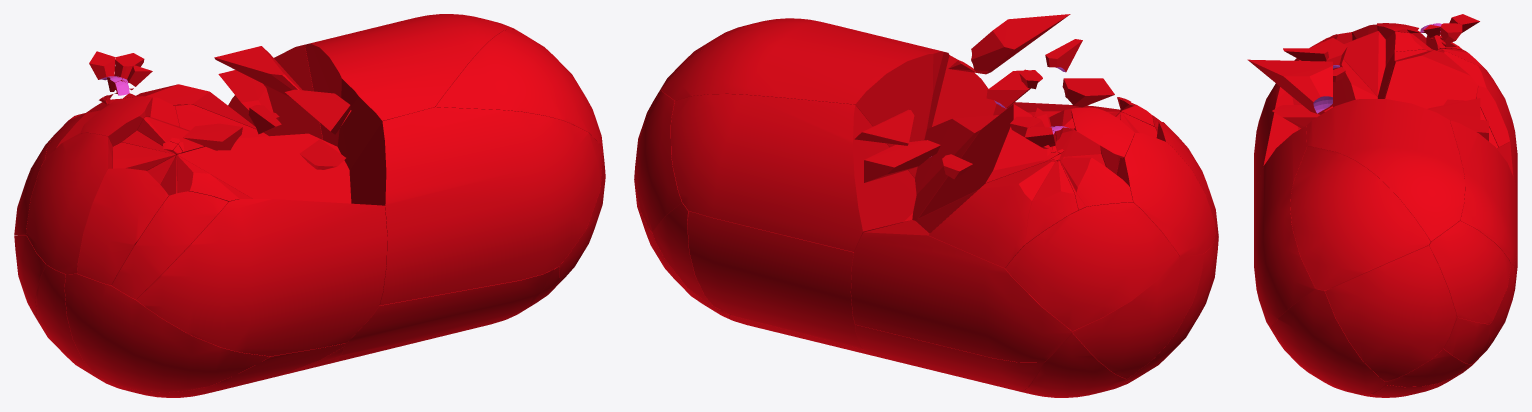
File: boom.fbx
3 views of the same model, side by side, from view 1: azimuth 30°, elevation 25°; view 2: azimuth 150°, elevation 25°; view 3: azimuth 270°, elevation 25° (orthographic). The views are drawn at different scales.
Visible parts, largest first — view 1: Sphere.001_cell.046, Sphere.001_cell.028, Sphere.001_cell.061, Sphere.001_cell.022, Sphere.001_cell.071, Sphere.001_cell.050, Sphere.001_cell.063, Sphere.001_cell.005, Sphere.001_cell.098, Sphere.001_cell.029, Sphere.001_cell.056, Sphere.001_cell.031 (+20 smaller); view 2: Sphere.001_cell.056, Sphere.001_cell.019, Sphere.001_cell.061, Sphere.001_cell.048, Sphere.001_cell.024, Sphere.001_cell.017, Sphere.001_cell.050, Sphere.001_cell.091, Sphere.001_cell.085, Sphere.001_cell.042, Sphere.001_cell.011, Sphere.001_cell.009 (+21 smaller); view 3: Sphere.001_cell.071, Sphere.001_cell.061, Sphere.001_cell.073, Sphere.001_cell.046, Sphere.001_cell.012, Sphere.001_cell.011, Sphere.001_cell.056, Sphere.001_cell.042, Sphere.001_cell.062, Sphere.001_cell.028, Sphere.001_cell.091, Sphere.001_cell.016 (+18 smaller).
Part boxes in pixels (box(x1,y1,x2,y2)): Sphere.001_cell.046: box(349, 107, 602, 305); Sphere.001_cell.028: box(136, 199, 387, 356); Sphere.001_cell.061: box(305, 14, 514, 169); Sphere.001_cell.022: box(64, 273, 269, 392); Sphere.001_cell.071: box(436, 29, 602, 146); Sphere.001_cell.050: box(26, 133, 112, 274); Sphere.001_cell.063: box(337, 269, 553, 361); Sphere.001_cell.005: box(177, 133, 351, 203); Sphere.001_cell.098: box(77, 168, 168, 285); Sphere.001_cell.029: box(111, 191, 228, 299); Sphere.001_cell.056: box(228, 44, 322, 139); Sphere.001_cell.031: box(35, 265, 100, 378); Sphere.001_cell.056: box(671, 94, 916, 251); Sphere.001_cell.019: box(851, 220, 1072, 362); Sphere.001_cell.061: box(661, 20, 949, 182); Sphere.001_cell.048: box(687, 211, 912, 349); Sphere.001_cell.024: box(1005, 202, 1179, 331); Sphere.001_cell.017: box(1072, 254, 1203, 378); Sphere.001_cell.050: box(1116, 133, 1215, 256); Sphere.001_cell.091: box(928, 161, 1055, 267); Sphere.001_cell.085: box(855, 324, 1043, 391); Sphere.001_cell.042: box(918, 104, 1051, 218); Sphere.001_cell.011: box(634, 91, 682, 232); Sphere.001_cell.009: box(1022, 332, 1125, 396); Sphere.001_cell.071: box(1290, 147, 1430, 290); Sphere.001_cell.061: box(1306, 99, 1464, 241); Sphere.001_cell.073: box(1325, 245, 1456, 381); Sphere.001_cell.046: box(1254, 126, 1315, 327); Sphere.001_cell.012: box(1271, 289, 1385, 394); Sphere.001_cell.011: box(1426, 221, 1510, 324); Sphere.001_cell.056: box(1450, 120, 1516, 265); Sphere.001_cell.042: box(1384, 50, 1478, 108); Sphere.001_cell.062: box(1247, 59, 1332, 114); Sphere.001_cell.028: box(1254, 83, 1298, 207); Sphere.001_cell.091: box(1440, 50, 1512, 147); Sphere.001_cell.016: box(1343, 31, 1385, 96).
Bounding box in the file's own units: 400 × 205 × 205.
